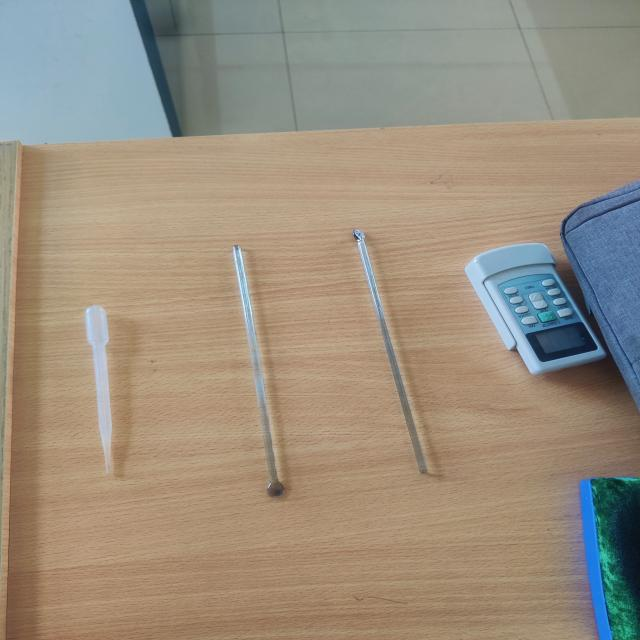Glass_Rod: (190, 220, 314, 523), (335, 205, 466, 491)
Pipette: (49, 290, 166, 481)
